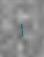one: (19, 20, 23, 36)
